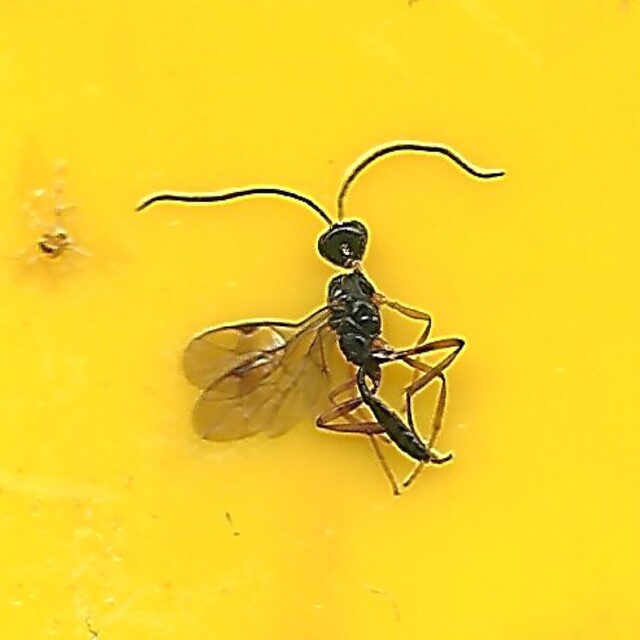Hymenoptera: (130, 143, 510, 497)
